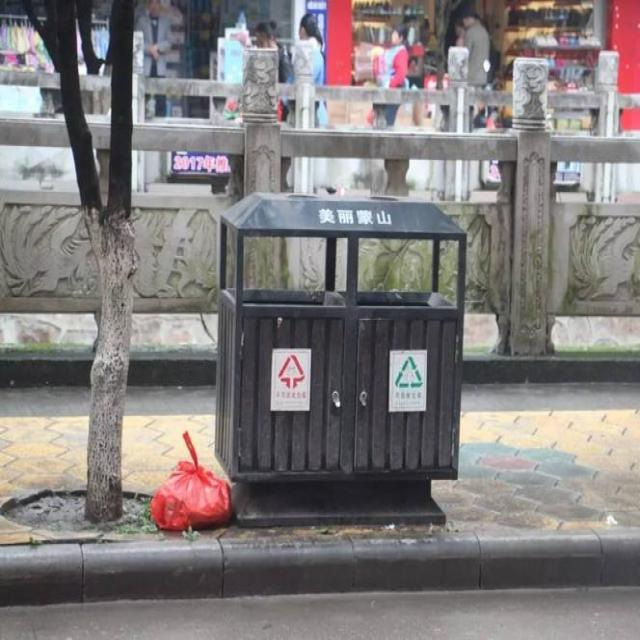garbage: (150, 430, 232, 529)
garbage_bin: (218, 196, 466, 523)
